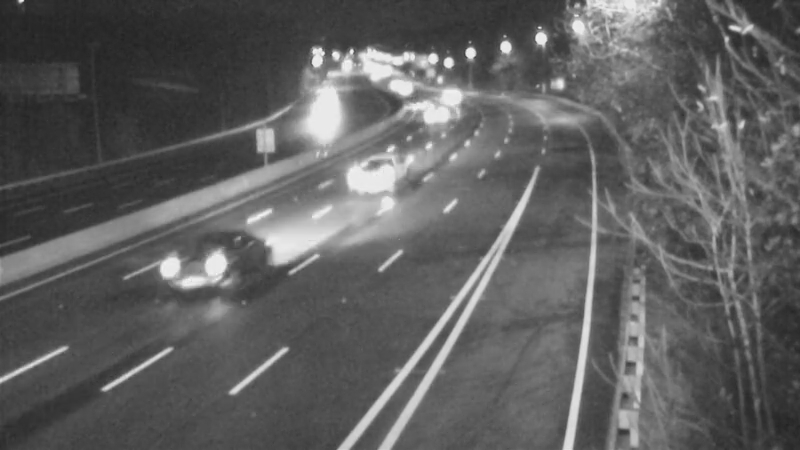vehicle: (333, 139, 413, 219), (168, 227, 248, 307), (381, 59, 431, 109), (423, 67, 473, 117), (395, 82, 445, 132), (410, 90, 460, 140), (294, 88, 344, 138)
